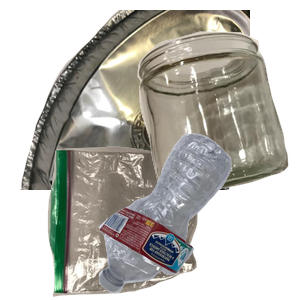glass: (135, 29, 300, 209)
metal: (18, 10, 258, 190)
plastic: (96, 131, 300, 300)
trash: (45, 144, 235, 300)
